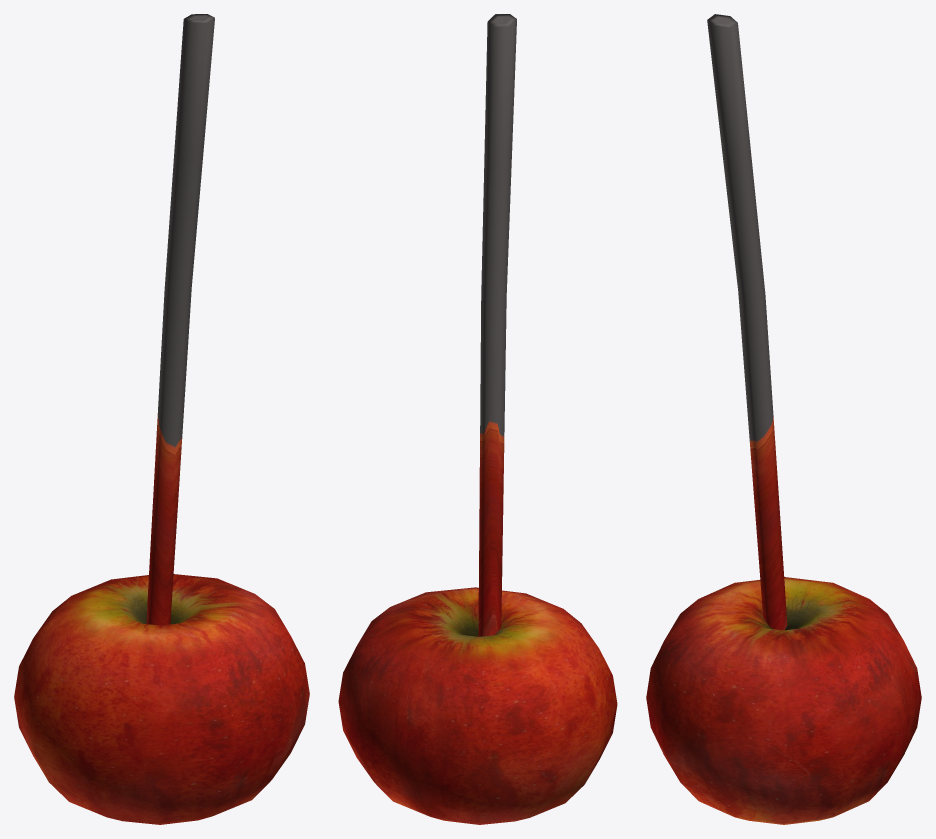
File: apple1.obj
3 views of the same model, side by side, from view 1: azimuth 30°, elevation 25°; view 2: azimuth 150°, elevation 25°; view 3: azimuth 270°, elevation 25° (orthographic). The views are drawn at different scales.
Visible parts, largest first — view 1: Apple, Apple.001; view 2: Apple, Apple.001; view 3: Apple, Apple.001.
Part boxes in pixels (x1,y1,x2,y2): Apple: (14, 574, 309, 824); Apple.001: (146, 14, 214, 625); Apple: (338, 587, 617, 824); Apple.001: (478, 14, 516, 636); Apple: (646, 577, 921, 824); Apple.001: (707, 14, 787, 630).
Size of the model in its own units: 1.52 by 4.46 by 1.43.
1 material, 1 textured.
